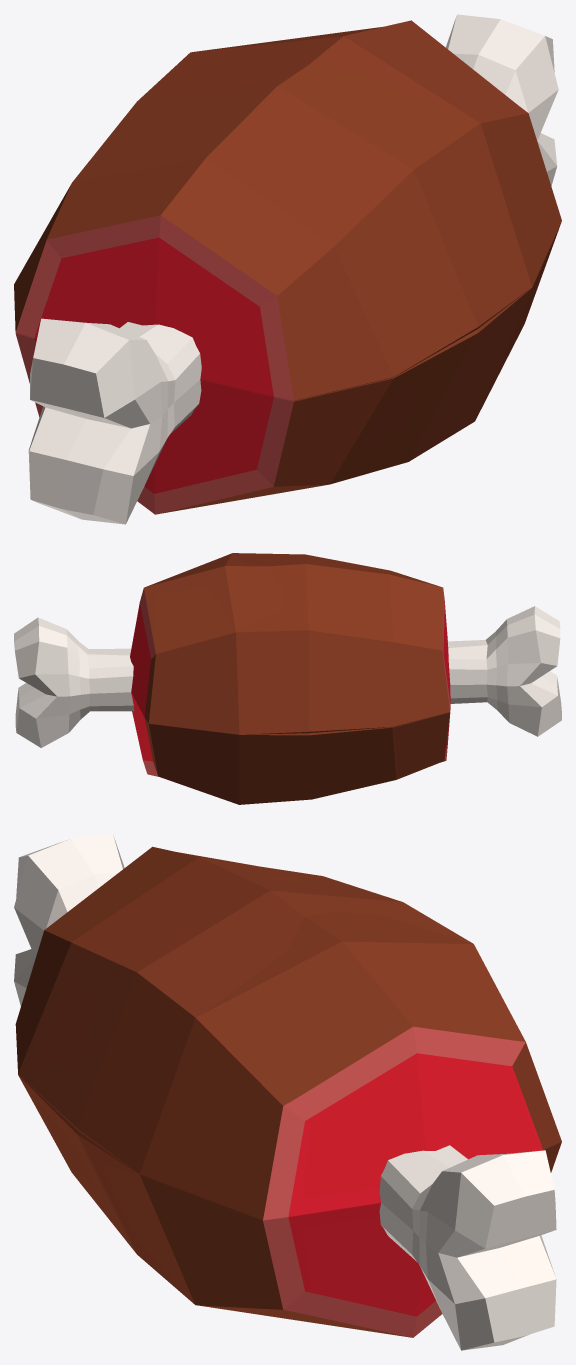
Rendered from meat2.fbx.
3 renders of one model, top to bottom at view 1: azimuth 30°, elevation 25°; view 2: azimuth 150°, elevation 25°; view 3: azimuth 270°, elevation 25°, orthographic. The views are drawn at different scales.
Parts seen in each view (by area): view 1: Cube.001; view 2: Cube.001; view 3: Cube.001.
Part boxes in pixels (<box>): Cube.001: <box>14,14,561,524</box>; Cube.001: <box>14,553,561,804</box>; Cube.001: <box>14,833,561,1350</box>.
Bounding box in the file's own units: 248 × 126 × 163.
